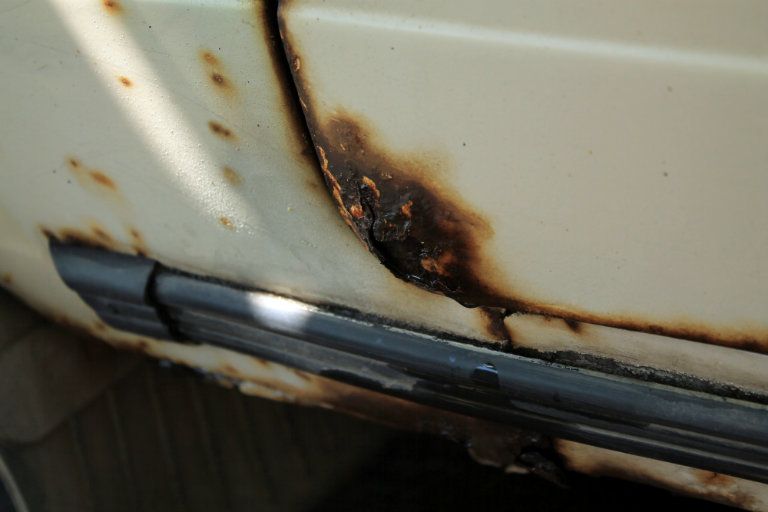rust: (311, 127, 503, 315)
